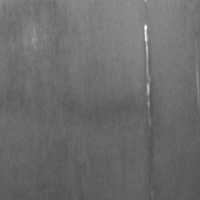scratches: (141, 22, 154, 129)
